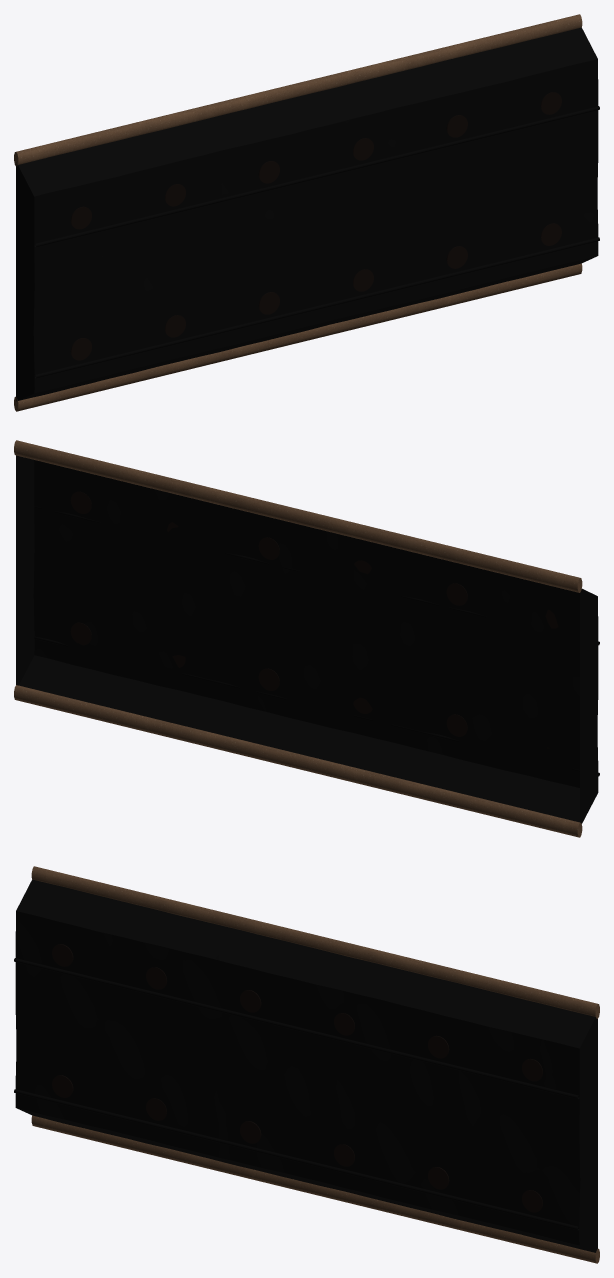
File: raised_bed.obj
3 renders of one model, top to bottom at view 1: azimuth 30°, elevation 25°; view 2: azimuth 150°, elevation 25°; view 3: azimuth 330°, elevation 25°, orthographic.
Visible parts, largest first — view 1: raised_bed, berm, berm.001, drip.001, drip; view 2: raised_bed, berm.001, berm, drip; view 3: raised_bed, berm, berm.001, drip.001, drip.
Part boxes in pixels (left/top/right/bottom): raised_bed: left=16, top=27, right=598, bottom=401; berm: left=14, top=14, right=582, bottom=166; berm.001: left=14, top=263, right=582, bottom=411; drip.001: left=34, top=106, right=599, bottom=247; drip: left=34, top=237, right=599, bottom=378; raised_bed: left=16, top=455, right=598, bottom=823; berm.001: left=14, top=685, right=582, bottom=837; berm: left=14, top=440, right=582, bottom=592; drip: left=34, top=636, right=599, bottom=776; raised_bed: left=15, top=879, right=597, bottom=1252; berm: left=31, top=866, right=599, bottom=1018; berm.001: left=31, top=1115, right=599, bottom=1263; drip.001: left=14, top=958, right=579, bottom=1099; drip: left=14, top=1089, right=579, bottom=1230.
Size of the model in its own units: 2.7 by 1.19 by 0.1839.
4 materials, 1 textured.
